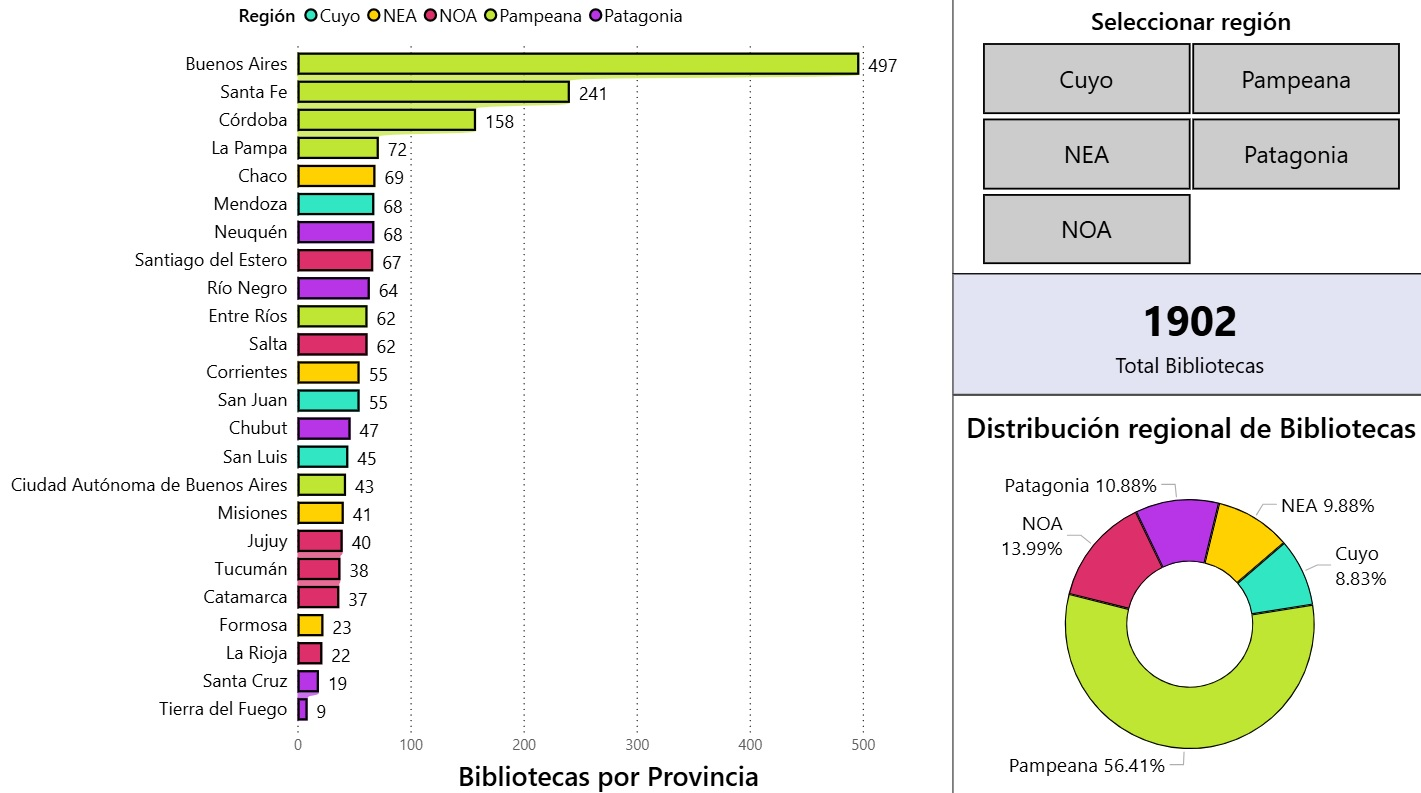

What the dashboard file says about the page in this screenshot:
{"tool":"powerbi","page":{"name":"Análisis Provincial-Regional","canvas":[1280,720],"ordinal":2},"visuals":[{"type":"slicer","title":"Seleccionar región","fields":{"Values":["Region.nombre_region"]},"box":[856.7,0,423.3,251.7],"z":0},{"type":"card","fields":{"Values":["Medidas.Total Bibliotecas"]},"box":[856.7,251.7,423.3,108.3],"z":1000},{"type":"donutChart","title":"Distribución regional de Bibliotecas","fields":{"Category":["Region.nombre_region"],"Y":["Medidas.Bibliotecas por Región"]},"box":[856.7,360,423.3,360],"z":2000},{"type":"barChart","title":"Bibliotecas por Provincia","fields":{"Series":["Region.nombre_region"],"Y":["Medidas.Bibliotecas por Provincia"],"Category":["Provincia.nombre_provincia"]},"box":[0,0,856.6,720.2],"z":3001}]}

Visuals, with their boxes in screenshot pixels (x1, y1, x2, y2), scaled from the page's 1280x720 canvas onto the 1421x793 screenshot:
"Seleccionar región" slicer: crop(951, 0, 1420, 277)
card - Medidas.Total Bibliotecas: crop(951, 277, 1420, 397)
"Distribución regional de Bibliotecas" donutChart: crop(951, 397, 1420, 792)
"Bibliotecas por Provincia" barChart: crop(0, 0, 951, 792)
